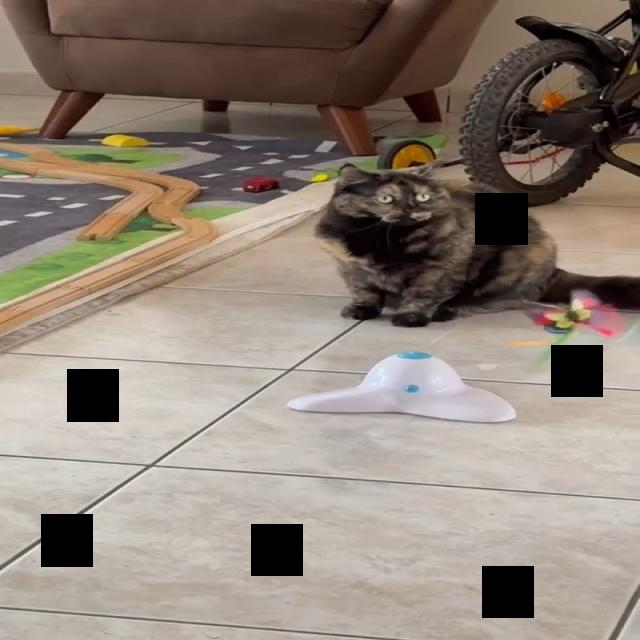authorized: (312, 157, 639, 328)
